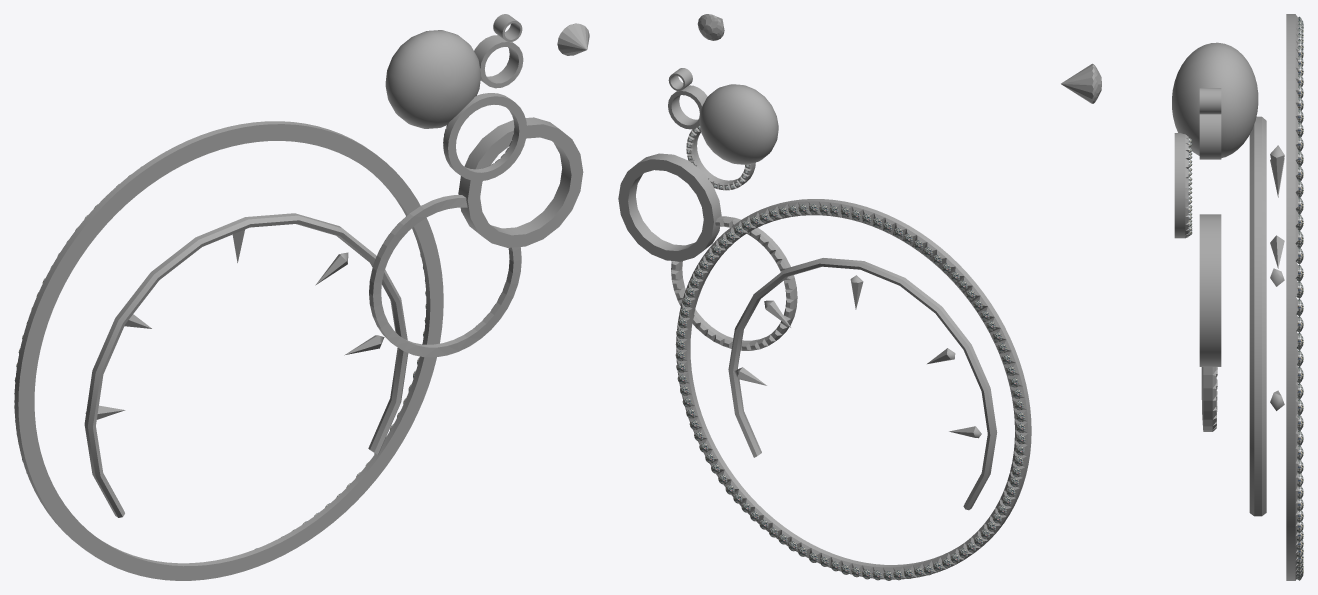
File: headFrame1.fbx
3 views of the same model, side by side, from view 1: azimuth 30°, elevation 25°; view 2: azimuth 150°, elevation 25°; view 3: azimuth 270°, elevation 25° (orthographic). The views are drawn at different scales.
Visible parts, largest first — view 1: pCylinder6, pTorus1, pSphere1, unityClockframe:pPipe8, FRAME4:unityClockframe:pCylinder5, unityClockframe2:polySurface102, pPipe8, diamond:pCone2; view 2: pCylinder6, pasted__persp1, pTorus1, pSphere1, unityClockframe:pPipe8, FRAME4:unityClockframe:pCylinder5, unityClockframe2:polySurface102, pPipe8, diamond:pCone2; view 3: pTorus1, pCylinder6, pSphere1, unityClockframe:pPipe8, pasted__persp1, unityClockframe2:polySurface102, pPipe8, FRAME4:unityClockframe:pCylinder5, diamond:pCone2, pPipe9, pPyramid3.
Part boxes in pixels (x1=…): pCylinder6: x1=14, y1=121, x2=443, y2=580; pTorus1: x1=84, y1=213, x2=408, y2=517; pSphere1: x1=385, y1=30, x2=480, y2=128; unityClockframe:pPipe8: x1=458, y1=117, x2=583, y2=247; FRAME4:unityClockframe:pCylinder5: x1=369, y1=195, x2=521, y2=357; unityClockframe2:polySurface102: x1=443, y1=93, x2=527, y2=181; pPipe8: x1=474, y1=35, x2=523, y2=88; diamond:pCone2: x1=557, y1=23, x2=589, y2=55; pCylinder6: x1=676, y1=199, x2=1031, y2=579; pasted__persp1: x1=675, y1=204, x2=1025, y2=580; pTorus1: x1=728, y1=258, x2=997, y2=510; pSphere1: x1=699, y1=84, x2=778, y2=164; unityClockframe:pPipe8: x1=618, y1=153, x2=721, y2=261; FRAME4:unityClockframe:pCylinder5: x1=671, y1=216, x2=797, y2=350; unityClockframe2:polySurface102: x1=686, y1=125, x2=755, y2=190; pPipe8: x1=668, y1=85, x2=707, y2=129; diamond:pCone2: x1=697, y1=14, x2=724, y2=40; pTorus1: x1=1249, y1=116, x2=1266, y2=516; pCylinder6: x1=1286, y1=14, x2=1298, y2=580; pSphere1: x1=1172, y1=42, x2=1258, y2=158; unityClockframe:pPipe8: x1=1199, y1=214, x2=1221, y2=366; pasted__persp1: x1=1296, y1=16, x2=1303, y2=580; unityClockframe2:polySurface102: x1=1174, y1=133, x2=1192, y2=238; pPipe8: x1=1199, y1=114, x2=1221, y2=159; FRAME4:unityClockframe:pCylinder5: x1=1201, y1=367, x2=1217, y2=431; diamond:pCone2: x1=1061, y1=63, x2=1101, y2=103; pPipe9: x1=1199, y1=88, x2=1221, y2=114; pPyramid3: x1=1270, y1=145, x2=1284, y2=193.
Bounding box in the file's own units: 162 × 162 × 56.08.
